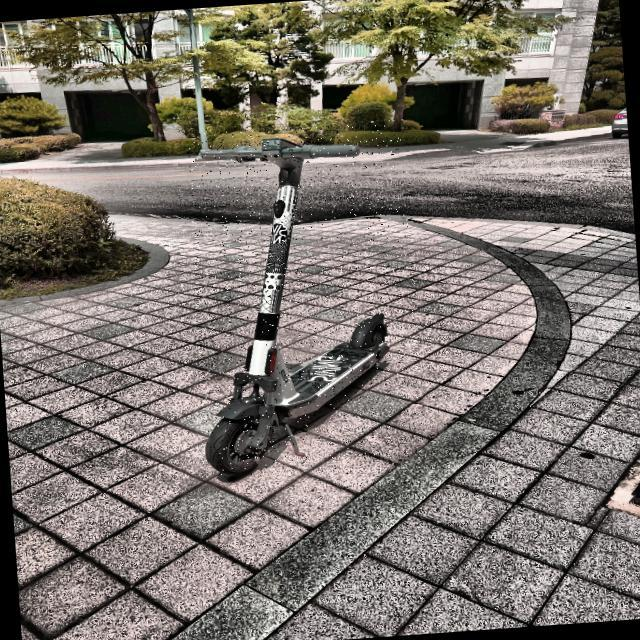bike: (204, 141, 389, 479), (205, 314, 389, 479)
car: (611, 106, 628, 138)
